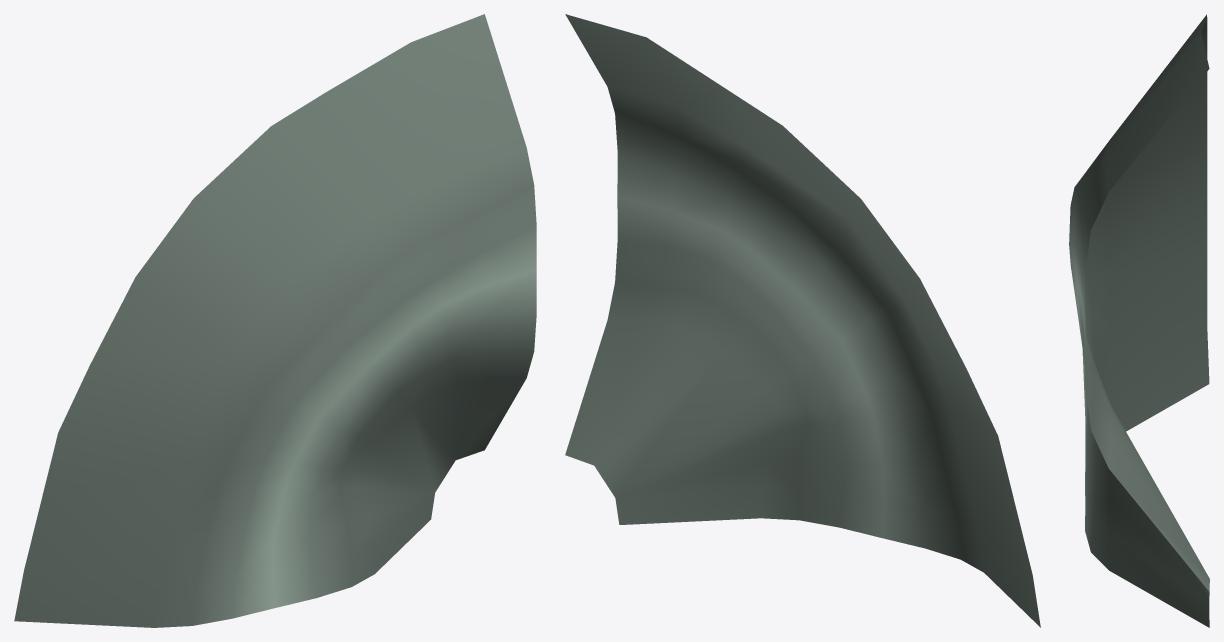
File: Swamp_BarCurveA.glb
The picture shows the model from 3 angles, left to right: view 1: azimuth 30°, elevation 25°; view 2: azimuth 150°, elevation 25°; view 3: azimuth 270°, elevation 25°; orthographic projection. The views are drawn at different scales.
Visible parts, largest first — view 1: MeshNode_0; view 2: MeshNode_0; view 3: MeshNode_0.
Part boxes in pixels (box(x1,y1,x2,y2)): MeshNode_0: box(14, 14, 536, 627); MeshNode_0: box(565, 14, 1040, 627); MeshNode_0: box(1069, 14, 1209, 627).
Bounding box in the file's own units: 115 × 115 × 24.84.
